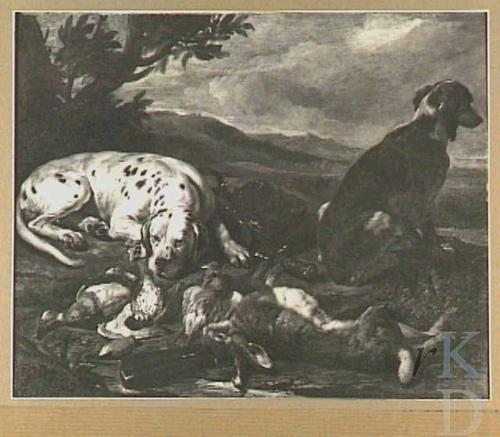dog: (317, 80, 484, 292), (17, 150, 252, 275)
tree: (17, 12, 255, 130)
